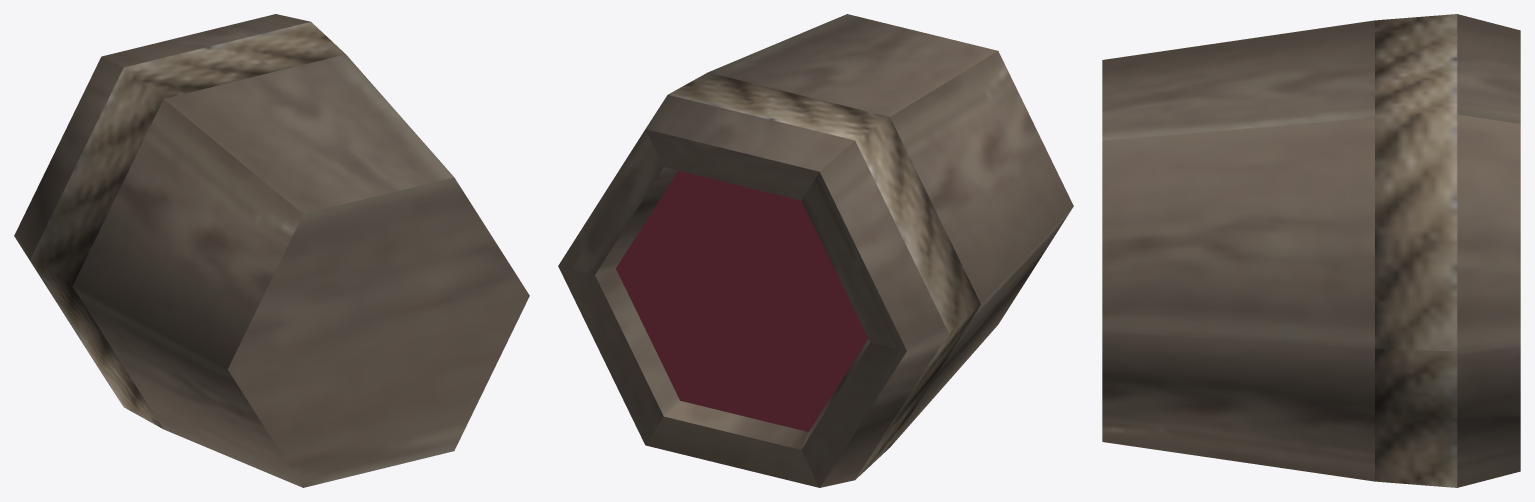
The model's file is Wood_Glass_C.fbx.
3 views of the same model, side by side, from view 1: azimuth 30°, elevation 25°; view 2: azimuth 150°, elevation 25°; view 3: azimuth 270°, elevation 25° (orthographic). The views are drawn at different scales.
Parts seen in each view (by area): view 1: Wood_Glass_C; view 2: Wood_Glass_C; view 3: Wood_Glass_C.
Part boxes in pixels (box(x1,y1,x2,y2)): Wood_Glass_C: box(14, 14, 529, 487); Wood_Glass_C: box(558, 14, 1073, 487); Wood_Glass_C: box(1102, 14, 1520, 487).
Bounding box in the file's own units: 0.2244 × 0.1944 × 0.1973.
